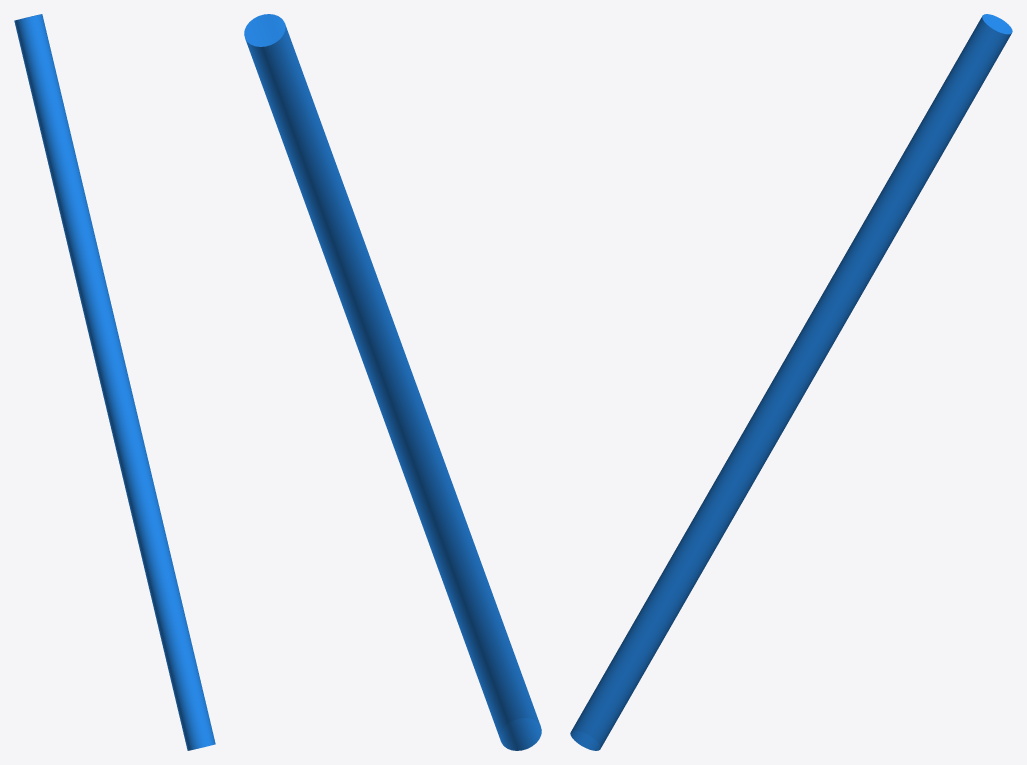
File: Event_420107950_MET.fbx
The picture shows the model from 3 angles, left to right: view 1: azimuth 30°, elevation 25°; view 2: azimuth 150°, elevation 25°; view 3: azimuth 270°, elevation 25°; orthographic projection. The views are drawn at different scales.
Parts seen in each view (by area): view 1: Model; view 2: Model; view 3: Model.
Part boxes in pixels (box(x1,y1,x2,y2)): Model: box(14, 14, 215, 750); Model: box(244, 14, 541, 750); Model: box(570, 14, 1012, 750).
Size of the model in its own units: 0.04 by 0.9392 by 0.5151.
